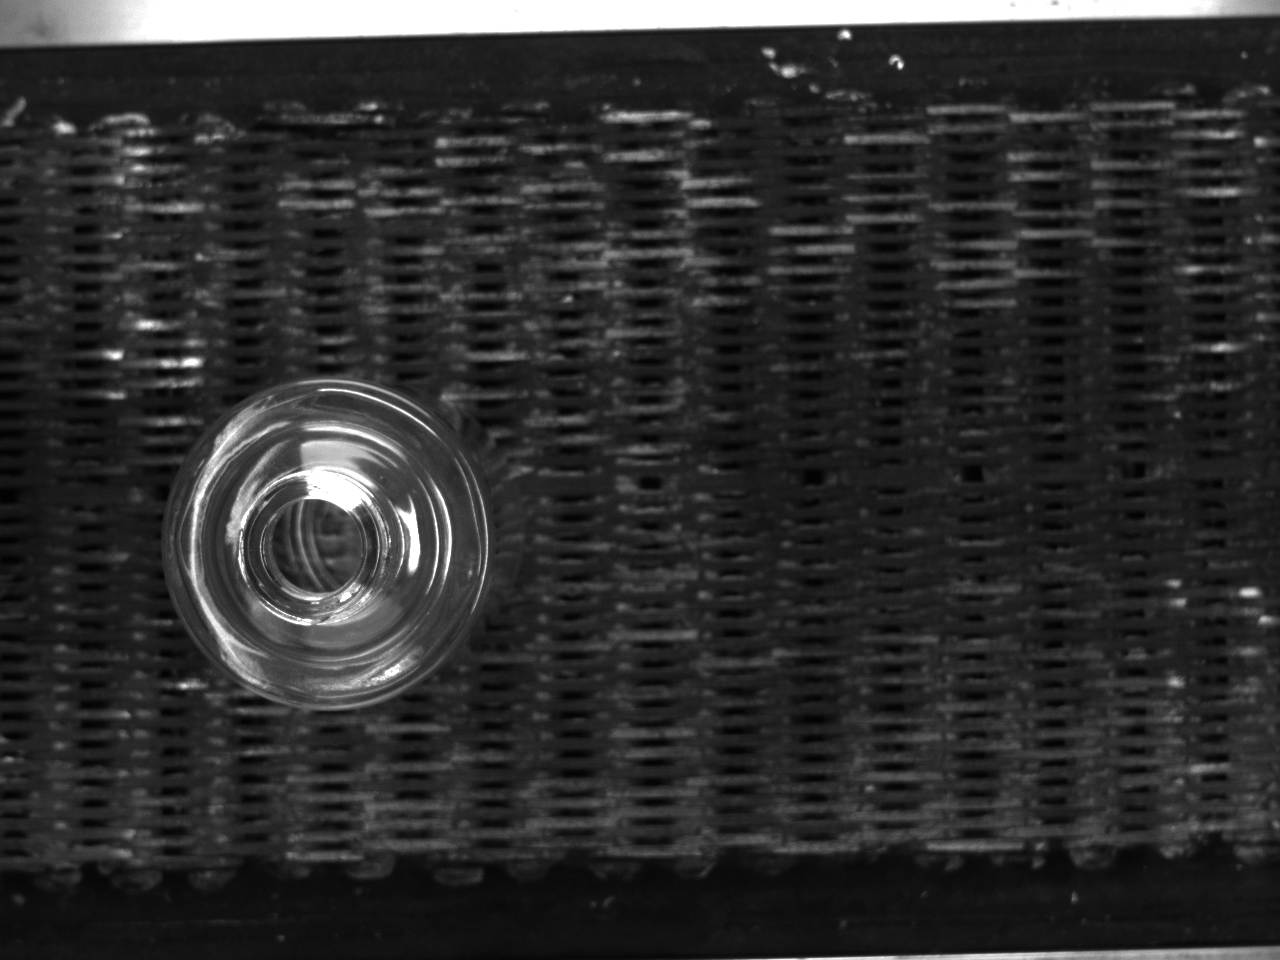bottleneck: (240, 471, 394, 626)
